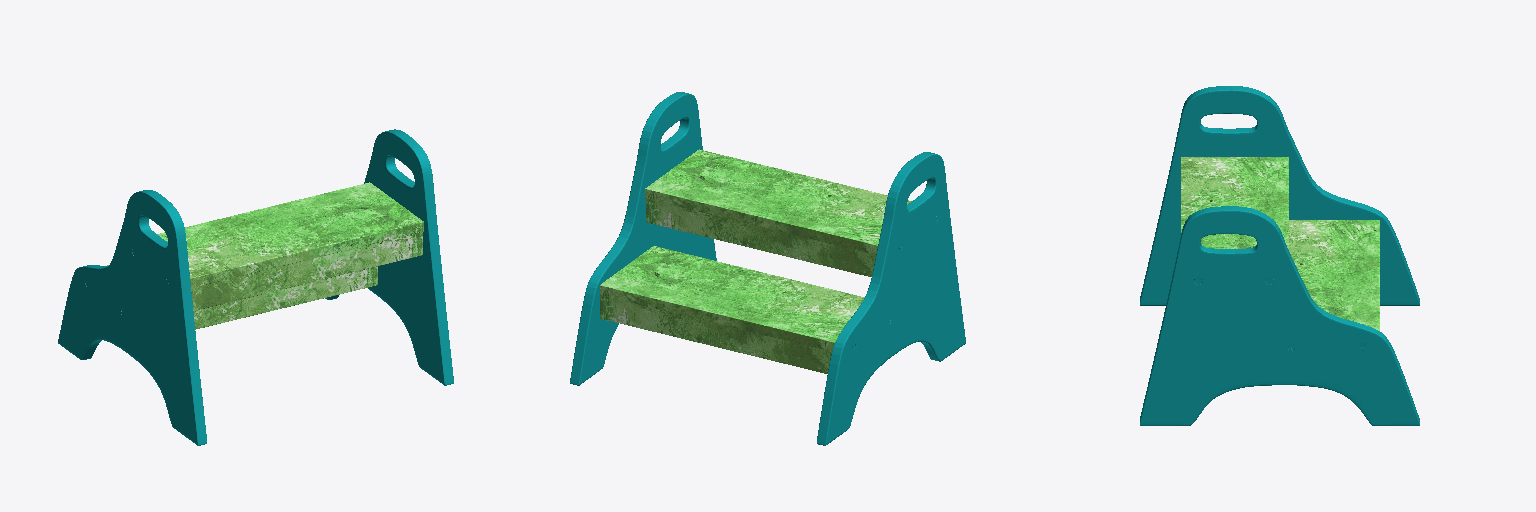
3 renders of one model, left to right at view 1: azimuth 30°, elevation 25°; view 2: azimuth 150°, elevation 25°; view 3: azimuth 270°, elevation 25°, orthographic.
Parts seen in each view (by area): view 1: Trogen_Children_s_Step_Stool_04, Trogen_Children_s_Step_Stool_02, Trogen_Children_s_Step_Stool_03; view 2: Trogen_Children_s_Step_Stool_04, Trogen_Children_s_Step_Stool_03, Trogen_Children_s_Step_Stool_02; view 3: Trogen_Children_s_Step_Stool_04, Trogen_Children_s_Step_Stool_03, Trogen_Children_s_Step_Stool_02.
Part boxes in pixels (x1,y1,x2,y2): Trogen_Children_s_Step_Stool_04: (58, 129, 453, 445); Trogen_Children_s_Step_Stool_02: (157, 182, 423, 310); Trogen_Children_s_Step_Stool_03: (107, 265, 377, 329); Trogen_Children_s_Step_Stool_04: (570, 92, 965, 445); Trogen_Children_s_Step_Stool_03: (600, 246, 864, 373); Trogen_Children_s_Step_Stool_02: (645, 149, 911, 276); Trogen_Children_s_Step_Stool_04: (1140, 86, 1419, 425); Trogen_Children_s_Step_Stool_03: (1289, 220, 1379, 330); Trogen_Children_s_Step_Stool_02: (1181, 157, 1288, 249).
Size of the model in its own units: 15.79 by 12.69 by 14.97.
2 materials, 1 textured.